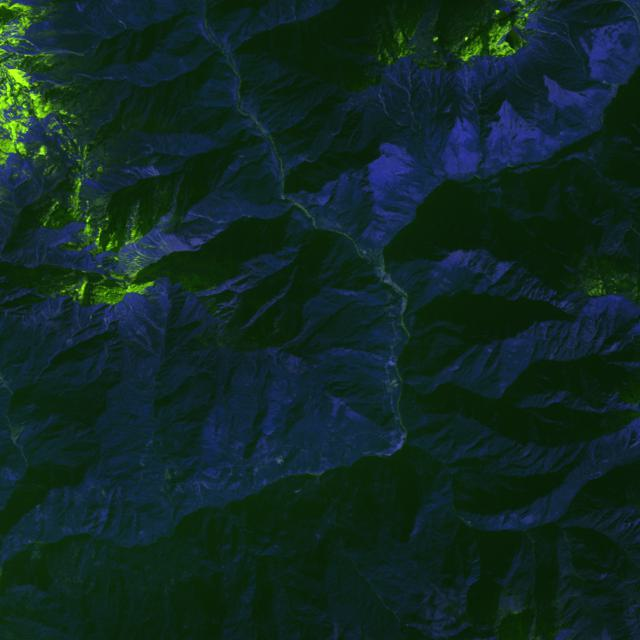landslides: (121, 321, 160, 361), (139, 232, 186, 259), (118, 244, 154, 274), (280, 151, 308, 176), (103, 0, 126, 29), (95, 0, 108, 34), (85, 178, 107, 196), (379, 87, 391, 119), (373, 431, 389, 455), (232, 192, 247, 216), (106, 0, 123, 20), (610, 523, 630, 539), (269, 116, 284, 137), (374, 353, 388, 375), (3, 468, 19, 487), (122, 168, 142, 183), (495, 262, 509, 283), (242, 200, 257, 218), (132, 163, 147, 179), (141, 164, 161, 176), (194, 477, 203, 503), (141, 368, 154, 386), (183, 134, 194, 155), (442, 475, 454, 494), (0, 475, 9, 499), (235, 482, 250, 496), (11, 425, 24, 441), (434, 69, 440, 103), (510, 513, 521, 531), (567, 474, 581, 488), (200, 476, 212, 492), (83, 521, 97, 534), (157, 137, 167, 154), (321, 454, 331, 471), (389, 439, 403, 451), (486, 515, 495, 533), (238, 152, 264, 158), (468, 515, 480, 528), (458, 510, 471, 522), (159, 215, 173, 226), (348, 224, 359, 237), (179, 58, 189, 72), (170, 486, 182, 497), (60, 526, 73, 536), (31, 524, 41, 536), (234, 63, 246, 73), (437, 447, 449, 457), (577, 466, 584, 483), (273, 392, 282, 405), (116, 73, 130, 81), (231, 483, 239, 497), (309, 208, 318, 220), (145, 142, 154, 154), (451, 467, 460, 479), (550, 504, 557, 519), (100, 508, 107, 523), (554, 500, 562, 513), (75, 1, 83, 14)
